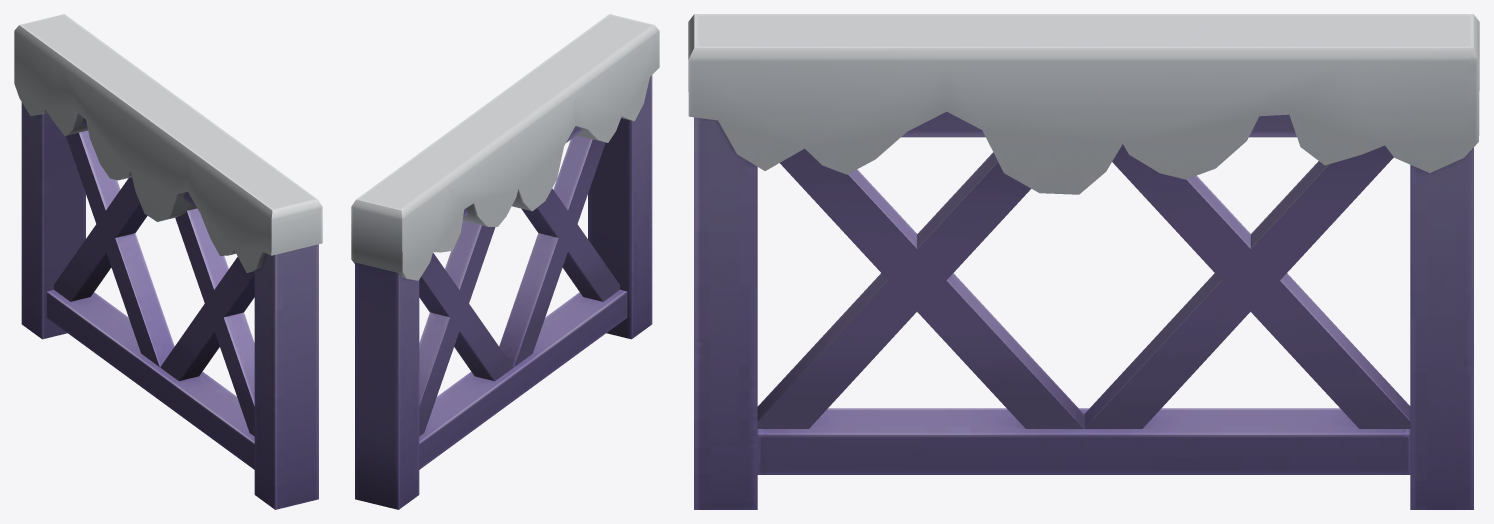
The model's file is my_halloween_01_p_partition.glb.
3 renders of one model, left to right at view 1: azimuth 30°, elevation 25°; view 2: azimuth 150°, elevation 25°; view 3: azimuth 270°, elevation 25°, orthographic. The views are drawn at different scales.
Parts seen in each view (by area): view 1: my_halloween_01_p_partition; view 2: my_halloween_01_p_partition; view 3: my_halloween_01_p_partition.
Part boxes in pixels (x1,y1,x2,y2): my_halloween_01_p_partition: [14, 14, 322, 509]; my_halloween_01_p_partition: [351, 14, 659, 509]; my_halloween_01_p_partition: [688, 14, 1479, 509].
Bounding box in the file's own units: 0.000844 × 0.00473 × 0.00736.
Materials: 1 (1 with a texture image).
